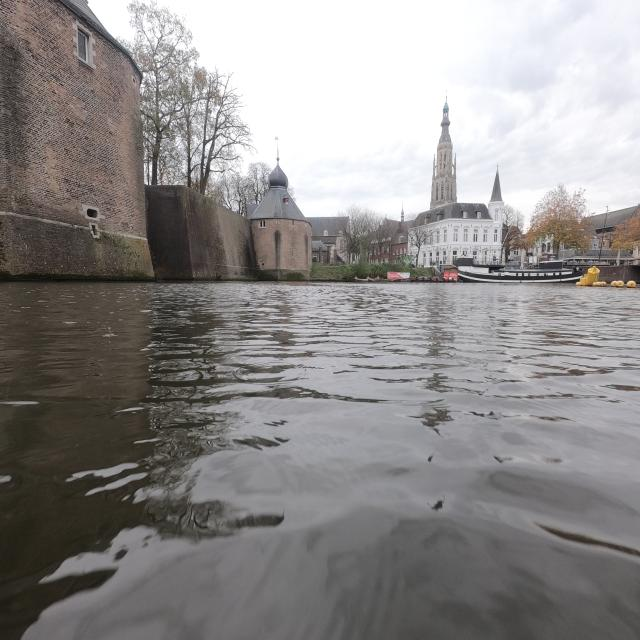boat: (446, 260, 592, 284)
grass: (310, 262, 431, 281)
sky: (168, 2, 638, 216)
wall: (2, 4, 140, 276), (152, 180, 308, 280)
water: (12, 290, 636, 634)
